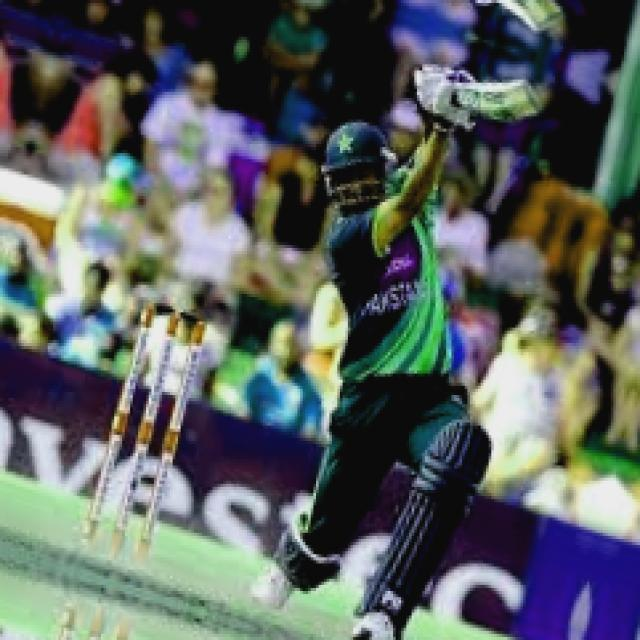bat: (445, 74, 553, 123)
toe: (521, 83, 541, 111)
